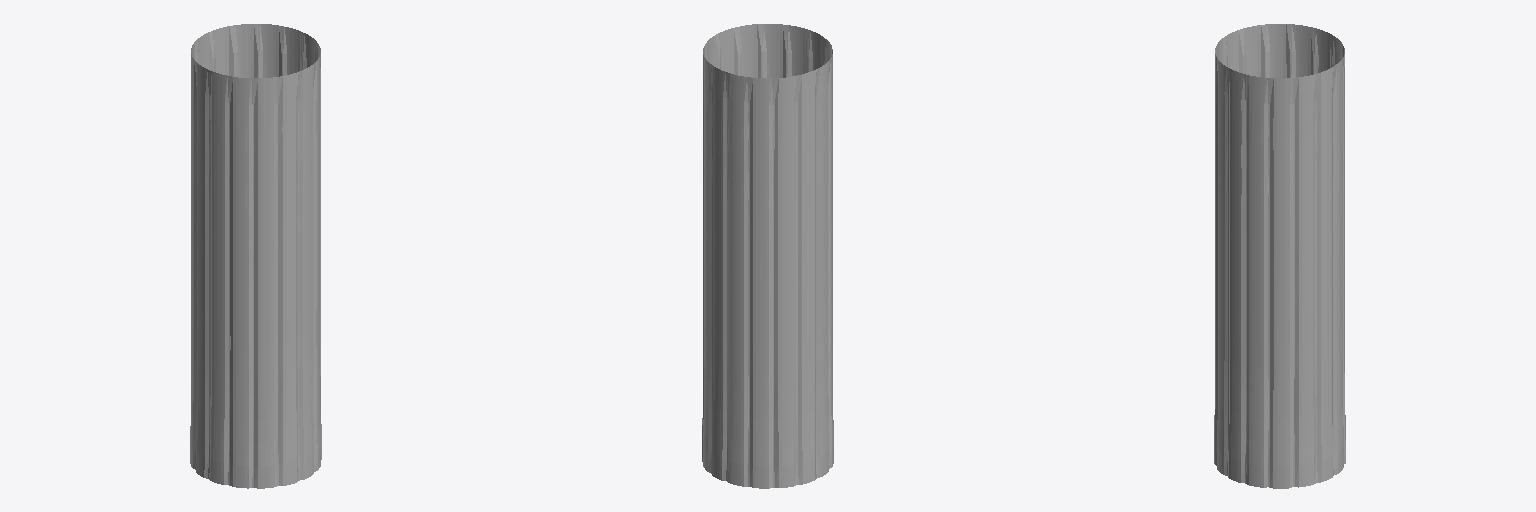
The model's file is ColumnPilar_HP_OBJ.OBJ.
3 views of the same model, side by side, from view 1: azimuth 30°, elevation 25°; view 2: azimuth 150°, elevation 25°; view 3: azimuth 270°, elevation 25° (orthographic).
Visible parts, largest first — view 1: Group30; view 2: Group30; view 3: Group30.
Boxes of the visible parts, <box> form: Group30: <box>190,24,321,488</box>; Group30: <box>702,24,833,488</box>; Group30: <box>1214,24,1345,488</box>.
Size of the model in its own units: 110 by 377 by 110.